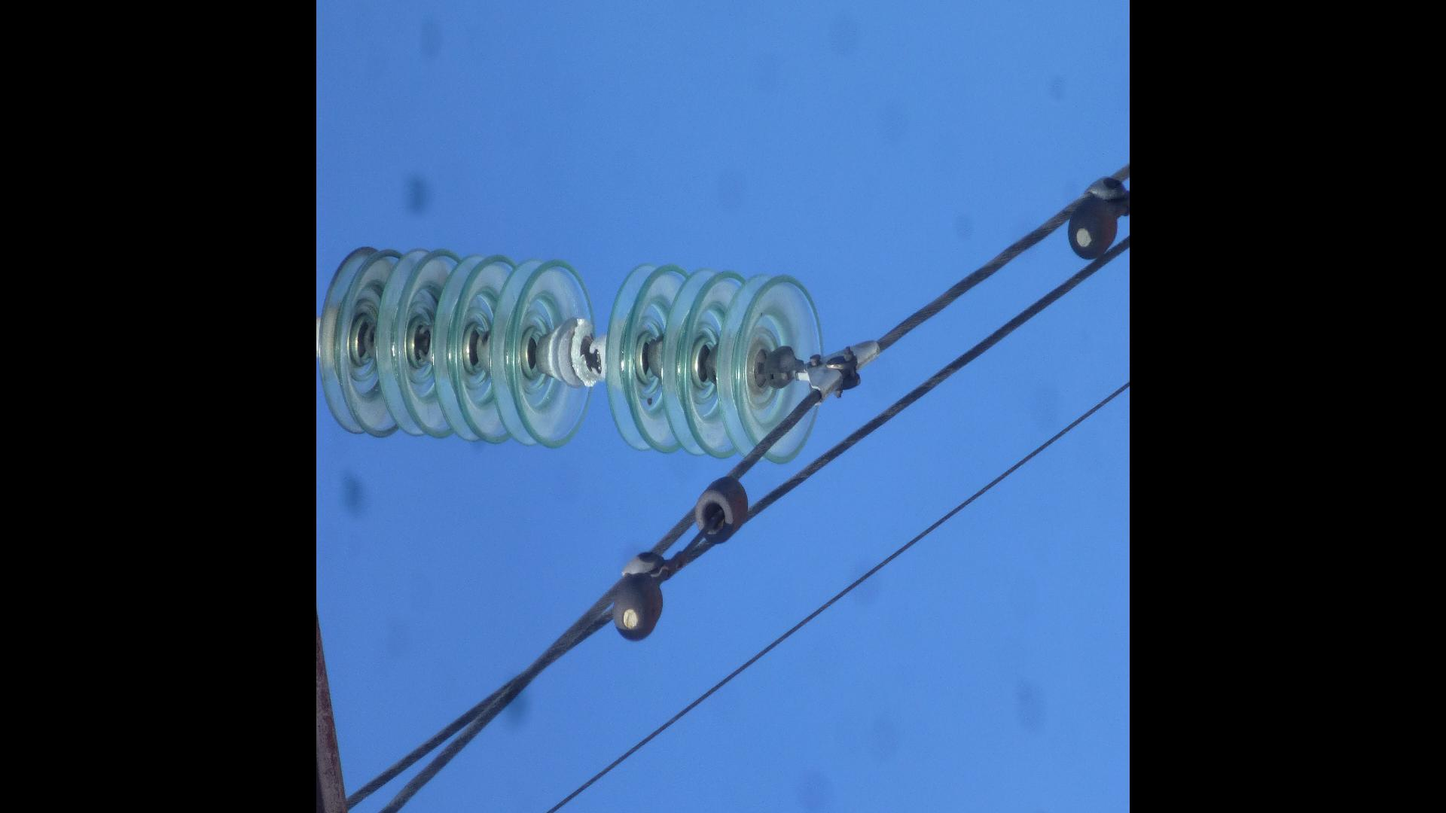insulator: (317, 242, 822, 470)
insulator_stringdrop: (481, 249, 688, 464)
